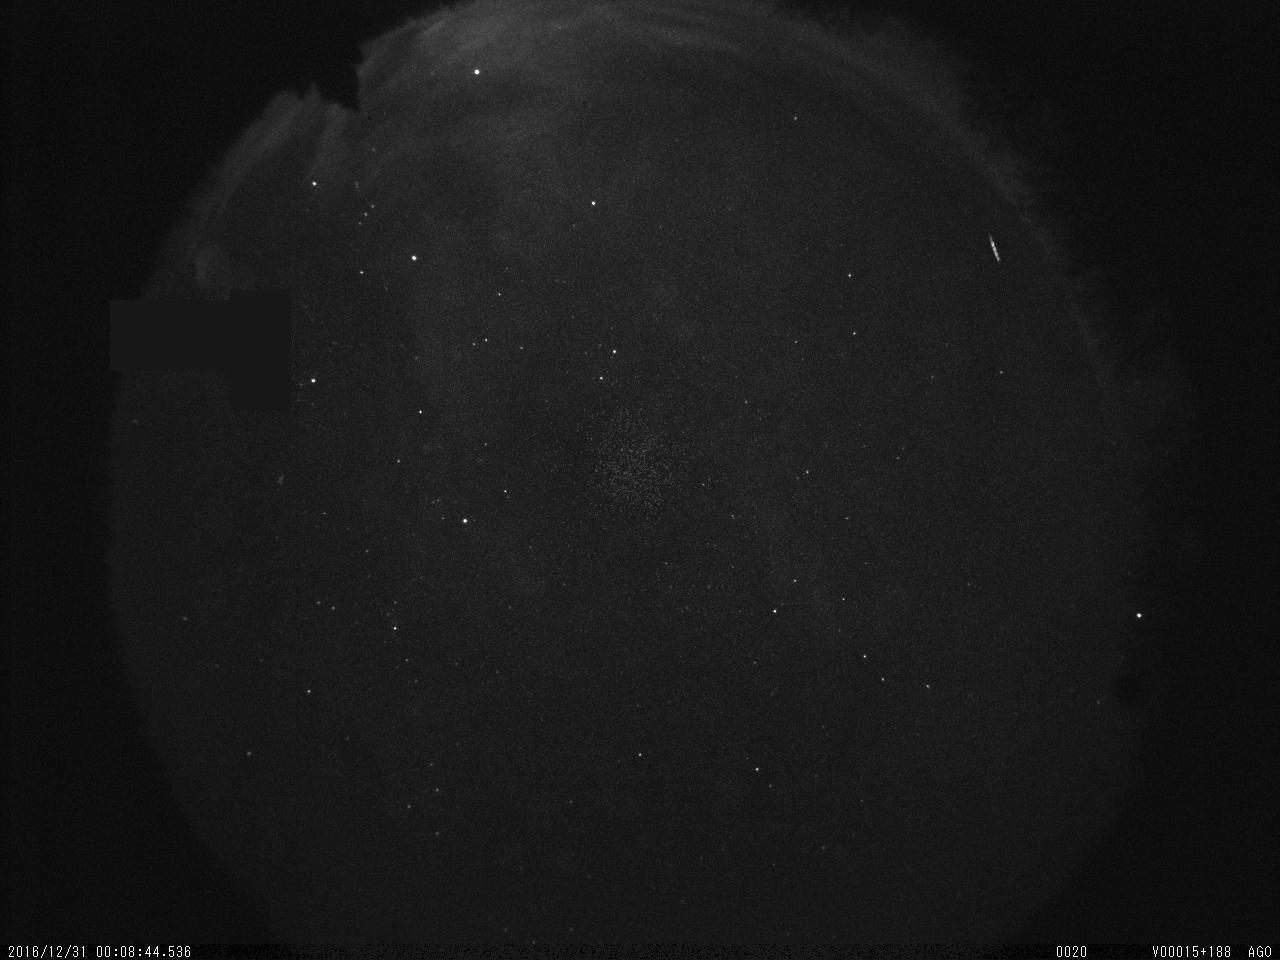Meteor: (986, 230, 1002, 262)
